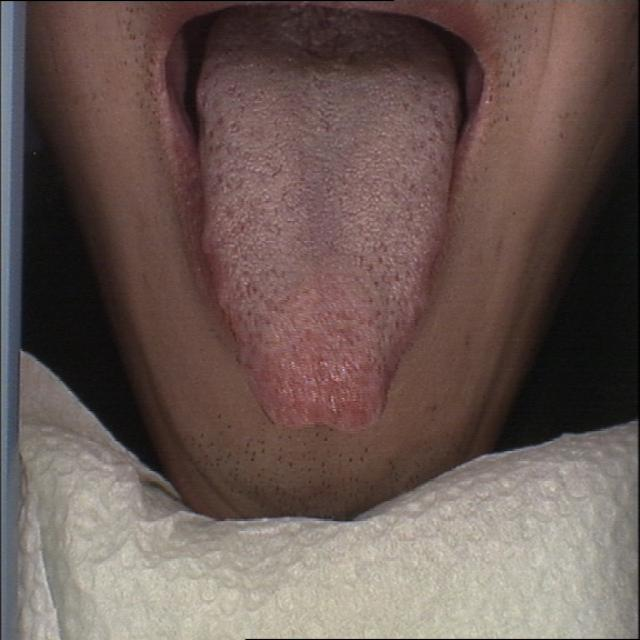tongue: (191, 21, 466, 436)
